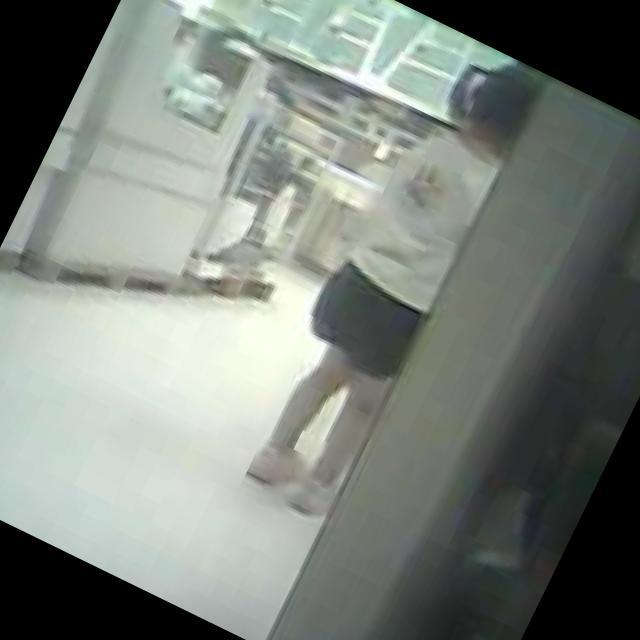person: (228, 30, 548, 528)
